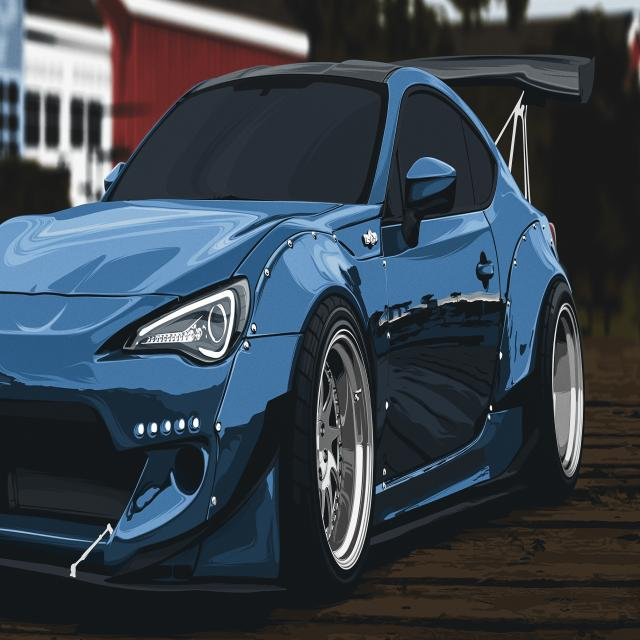car: (0, 52, 595, 607)
